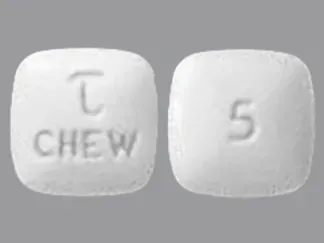Square: (11, 48, 158, 197), (169, 49, 312, 198)
